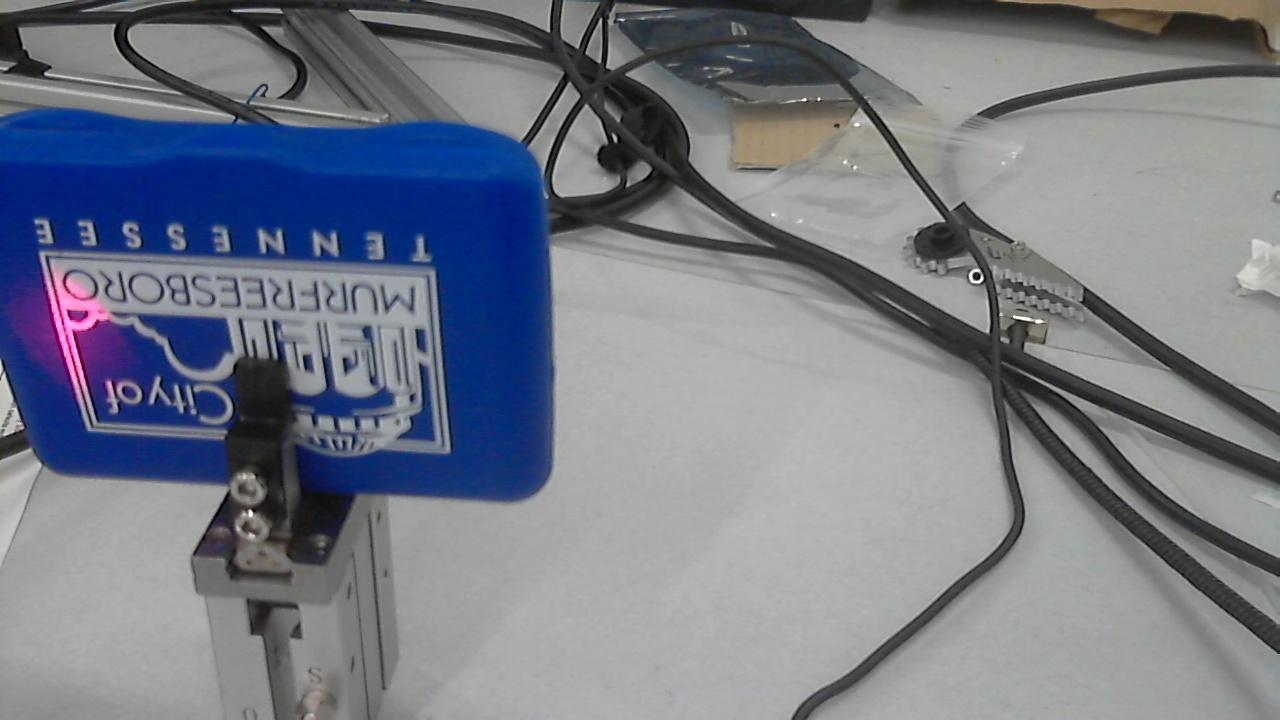Object plastic first aid kit - Material plastic - Color blue and white - Pdfname: (2, 251, 147, 415)
